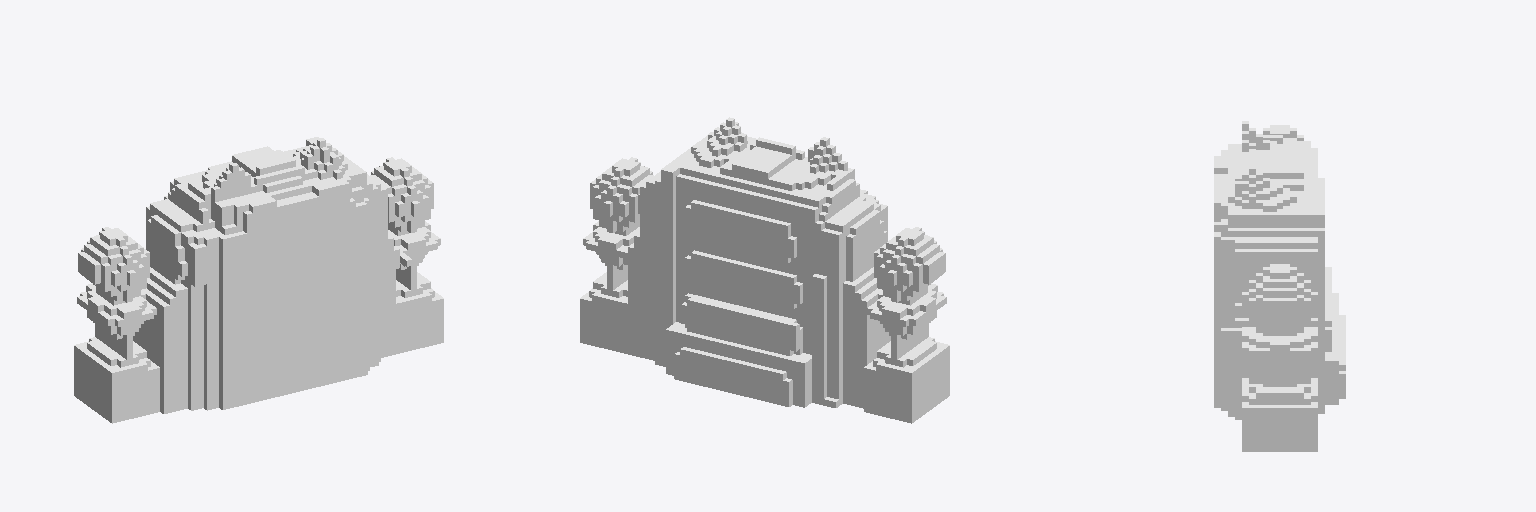
File: Dungeon4Green.vox.obj
3 renders of one model, left to right at view 1: azimuth 30°, elevation 25°; view 2: azimuth 150°, elevation 25°; view 3: azimuth 270°, elevation 25°, orthographic.
Visible parts, largest first — view 1: object 1; view 2: object 1; view 3: object 1.
Part boxes in pixels (bbox=[...]): object 1: bbox=[74, 137, 443, 423]; object 1: bbox=[580, 117, 949, 423]; object 1: bbox=[1214, 121, 1345, 451].
Size of the model in its own units: 5.6 by 3.6 by 1.9.